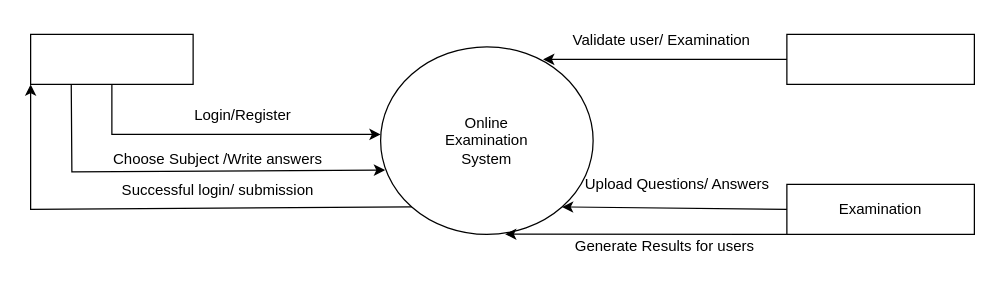
Some shapes in this 996 by 286 pixel diagram are drawn without their labels. The centre of each missing label's shape, as x and y in pixels:
Admin: the point at 880,58
User: the point at 111,58
